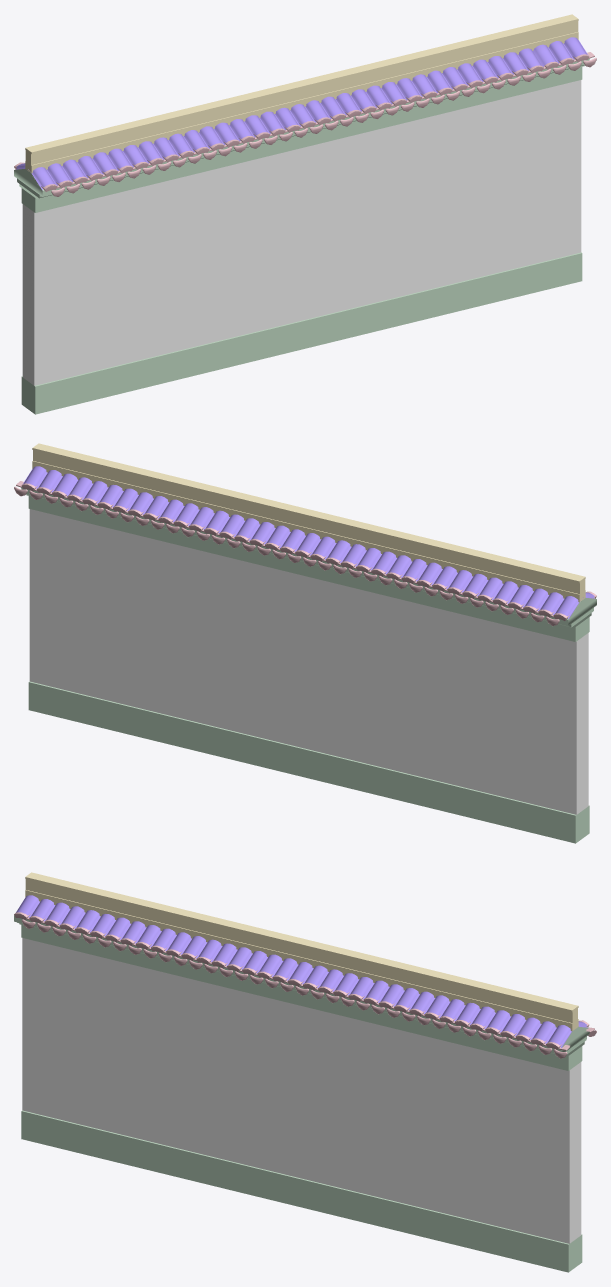
File: Wall_800x300.FBX
3 renders of one model, top to bottom at view 1: azimuth 30°, elevation 25°; view 2: azimuth 150°, elevation 25°; view 3: azimuth 330°, elevation 25°, orthographic.
Visible parts, largest first — view 1: Garden_Tile_Wall_800x300_A_LOD00; view 2: Garden_Tile_Wall_800x300_A_LOD00; view 3: Garden_Tile_Wall_800x300_A_LOD00.
Part boxes in pixels (x1,y1,x2,y2): Garden_Tile_Wall_800x300_A_LOD00: [14, 14, 596, 414]; Garden_Tile_Wall_800x300_A_LOD00: [14, 443, 596, 843]; Garden_Tile_Wall_800x300_A_LOD00: [14, 872, 596, 1272].
Size of what is drawn, in the model's own units: 810 by 363 by 79.31.
